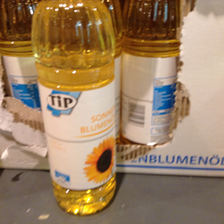oil: (31, 1, 117, 215), (119, 1, 182, 145)
